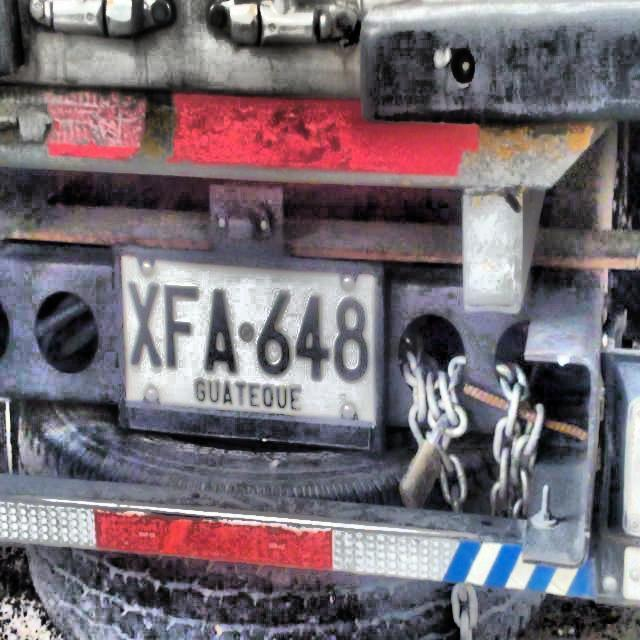plate: (120, 255, 373, 421)
